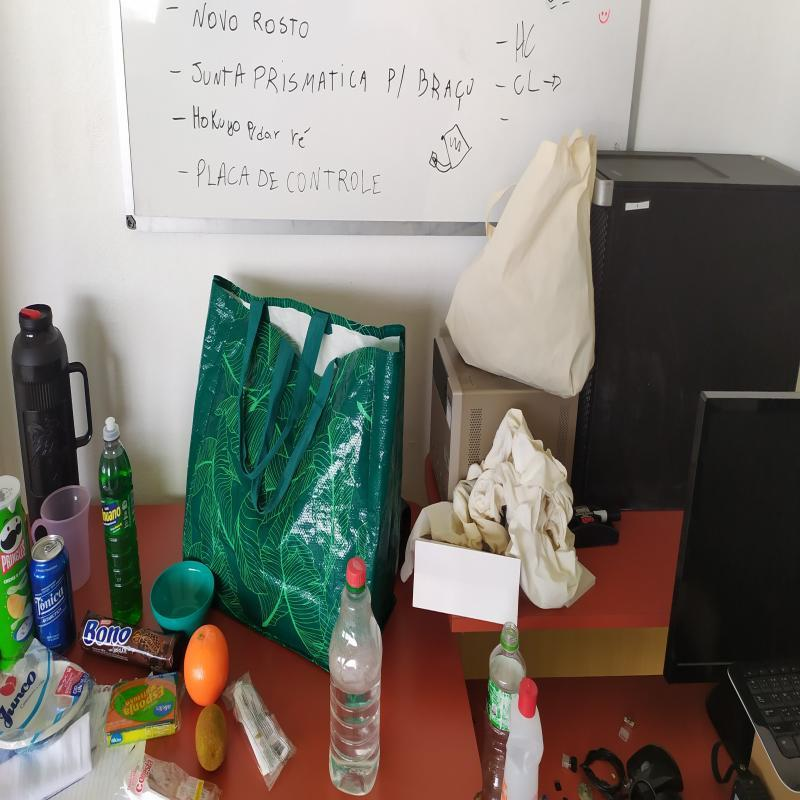Bag: (182, 272, 407, 675), (446, 122, 600, 400)
Bowl: (149, 559, 214, 632)
Cleaner: (99, 415, 143, 628)
Cookies: (81, 611, 182, 675)
Kiwi: (194, 703, 228, 773)
Mug: (33, 482, 96, 592)
Orange: (183, 622, 230, 706)
Plate: (0, 653, 90, 752)
Pringles: (0, 472, 34, 680)
Sponge: (104, 677, 183, 746)
Tonic: (31, 536, 76, 660)
